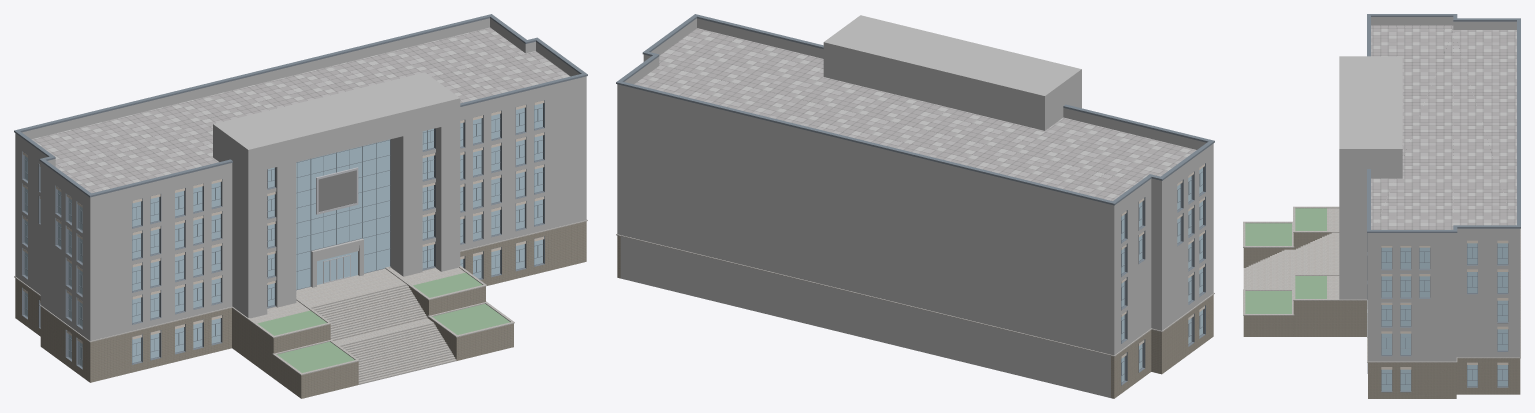
3 views of the same model, side by side, from view 1: azimuth 30°, elevation 25°; view 2: azimuth 150°, elevation 25°; view 3: azimuth 270°, elevation 25° (orthographic). The views are drawn at different scales.
Parts seen in each view (by area): view 1: 办公楼186; view 2: 办公楼186; view 3: 办公楼186.
Part boxes in pixels (x1,y1,x2,y2): 办公楼186: (14,14,587,398); 办公楼186: (616,14,1214,398); 办公楼186: (1243,14,1520,398).
Size of the model in its own units: 65.04 by 26.2 by 35.12.
10 materials, 3 textured.
